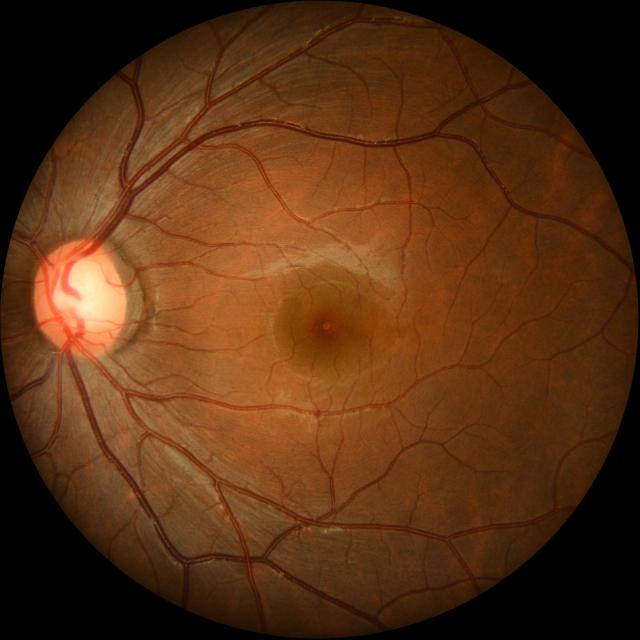OC: (53, 258, 110, 332)
OD: (34, 241, 126, 355)
